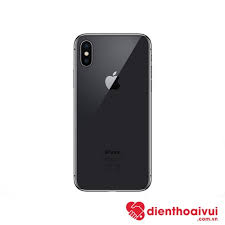iphone: (72, 31, 153, 197)
